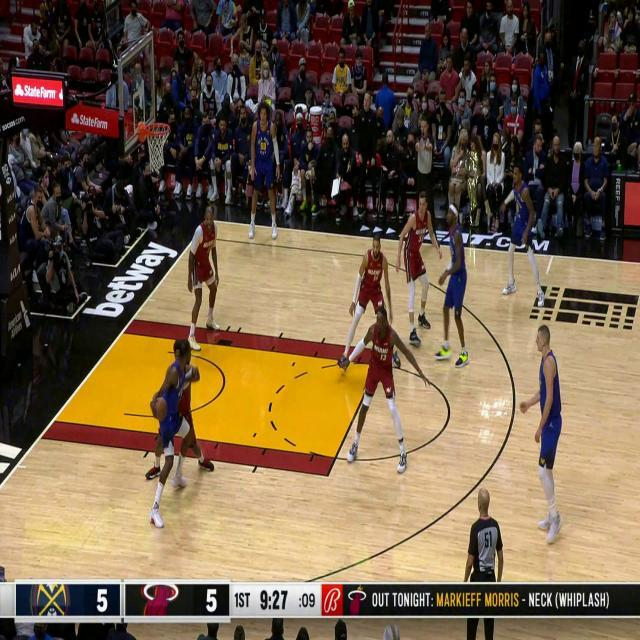rim: (154, 397, 167, 420)
